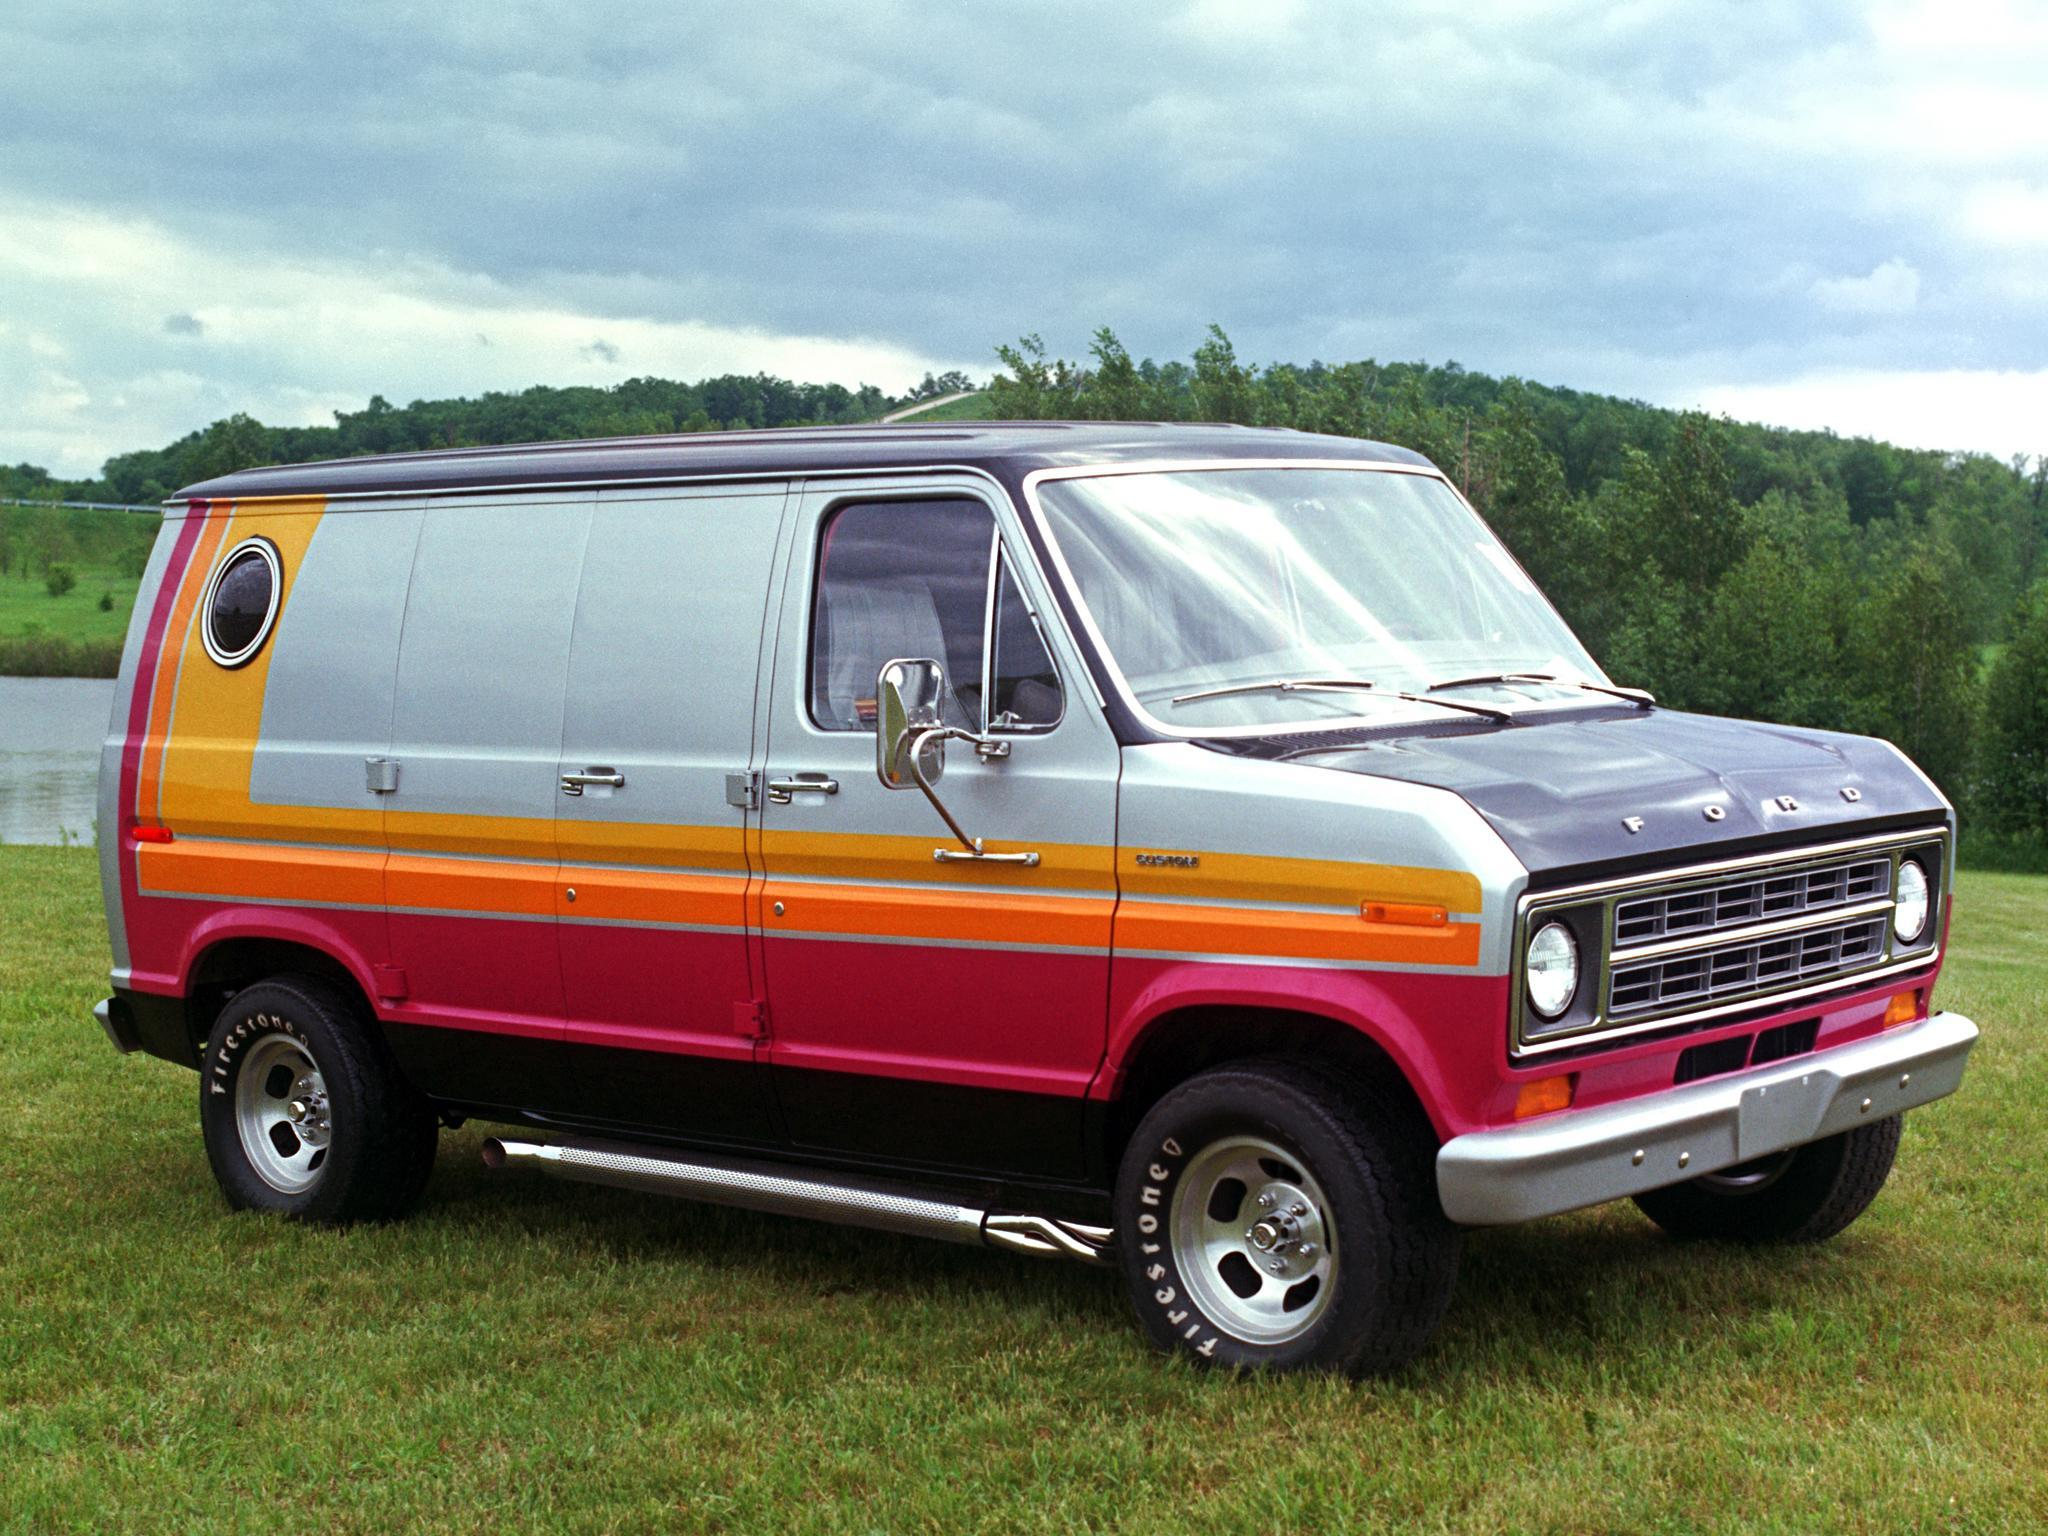van: (81, 415, 1980, 1379)
